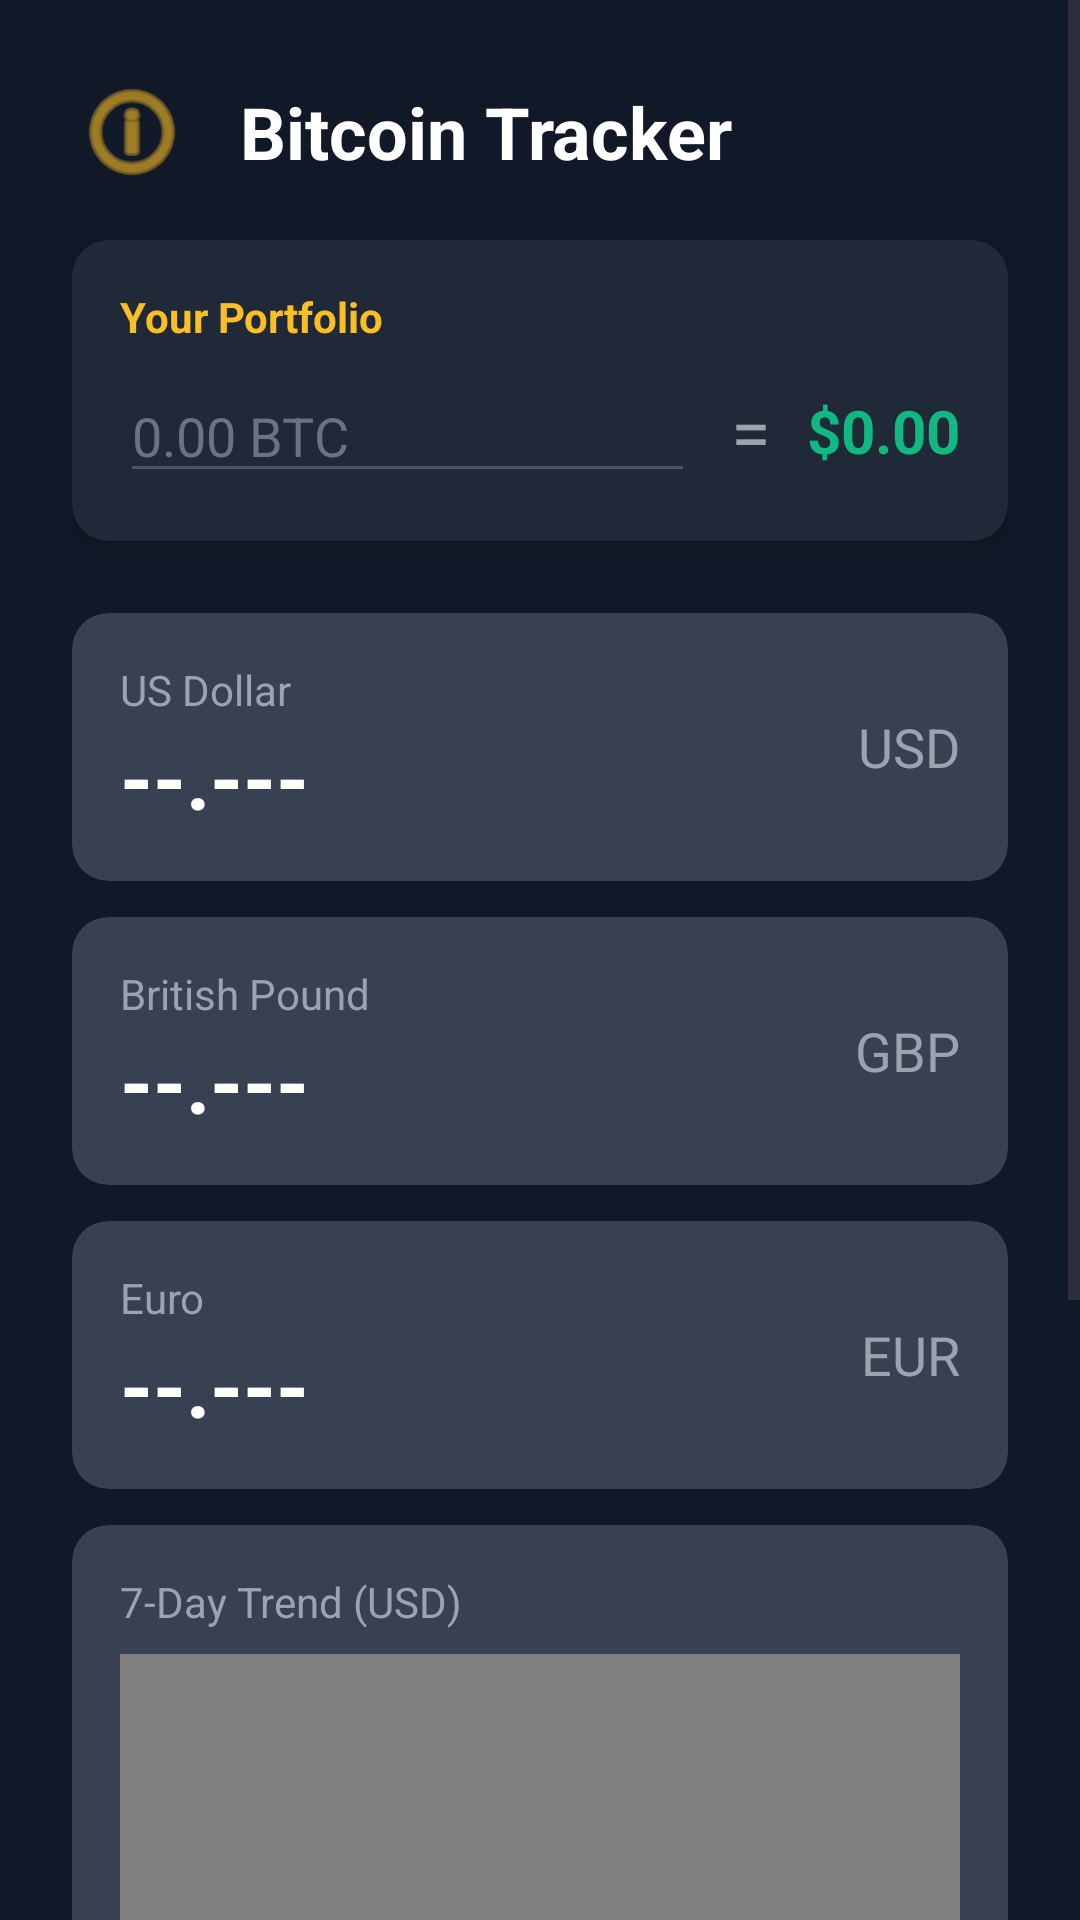

Named icons in this screenshot (1080 x 1920) and their bounding boxes, (x1, y1, x2, y2):
info details: (89, 89, 175, 175)
